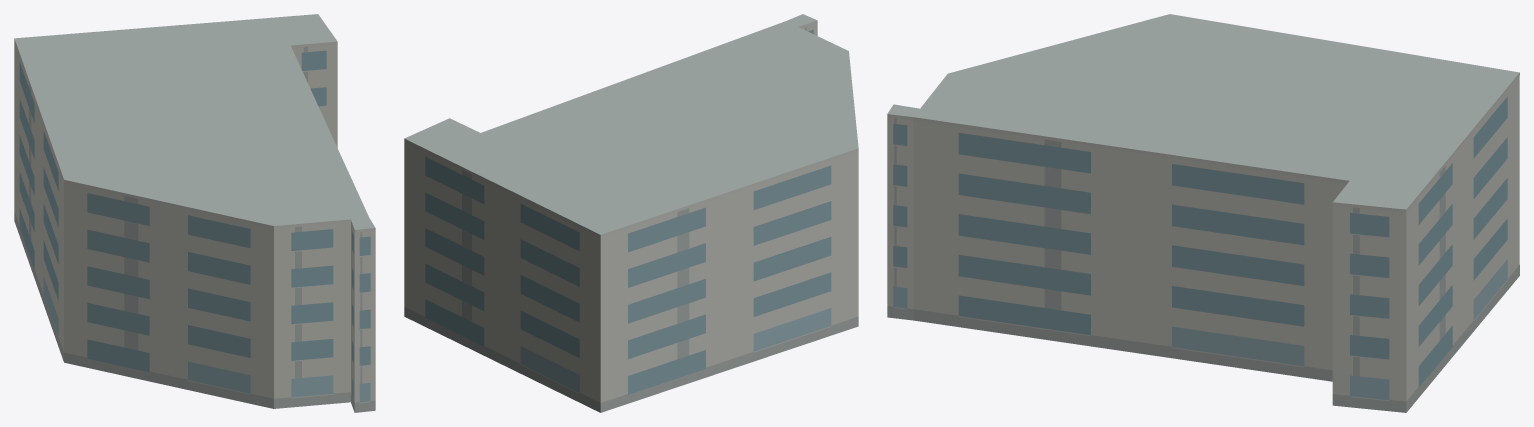
File: survey-upis-32782543.glb
3 views of the same model, side by side, from view 1: azimuth 30°, elevation 25°; view 2: azimuth 150°, elevation 25°; view 3: azimuth 270°, elevation 25° (orthographic). The views are drawn at different scales.
Visible parts, largest first — view 1: survey-upis-32782543.tmp; view 2: survey-upis-32782543.tmp; view 3: survey-upis-32782543.tmp.
Part boxes in pixels (x1=…): survey-upis-32782543.tmp: x1=14, y1=14, x2=375, y2=412; survey-upis-32782543.tmp: x1=404, y1=14, x2=858, y2=412; survey-upis-32782543.tmp: x1=887, y1=14, x2=1519, y2=412.
Bounding box in the file's own units: 31.46 × 15.25 × 43.
